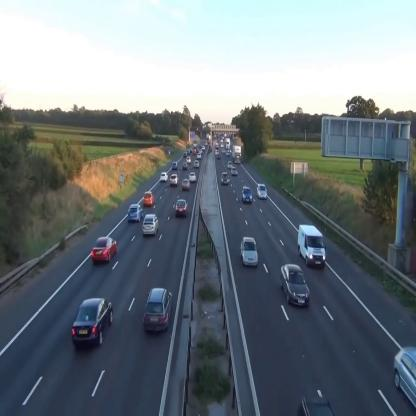car: (72, 298, 115, 347), (142, 285, 173, 334), (393, 344, 416, 410), (280, 264, 310, 306), (91, 236, 118, 266), (240, 237, 259, 267), (142, 213, 160, 238), (128, 204, 144, 224), (174, 198, 188, 218), (143, 191, 155, 207), (256, 183, 268, 199), (242, 185, 252, 204), (181, 178, 192, 192), (170, 173, 180, 187), (221, 172, 229, 187), (160, 172, 168, 184), (188, 172, 197, 182), (231, 166, 237, 176), (172, 161, 178, 170), (182, 162, 187, 170), (194, 160, 199, 168), (228, 161, 233, 169)
lorry: (298, 224, 326, 269), (232, 145, 242, 165)
